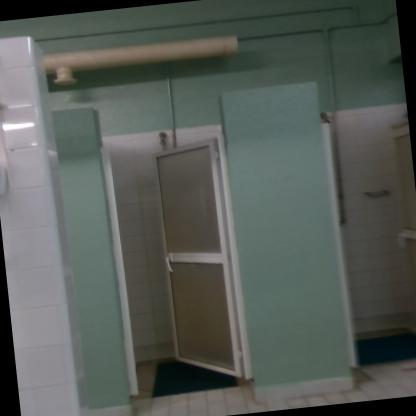open: (311, 90, 415, 358)
semi: (72, 88, 280, 408)
